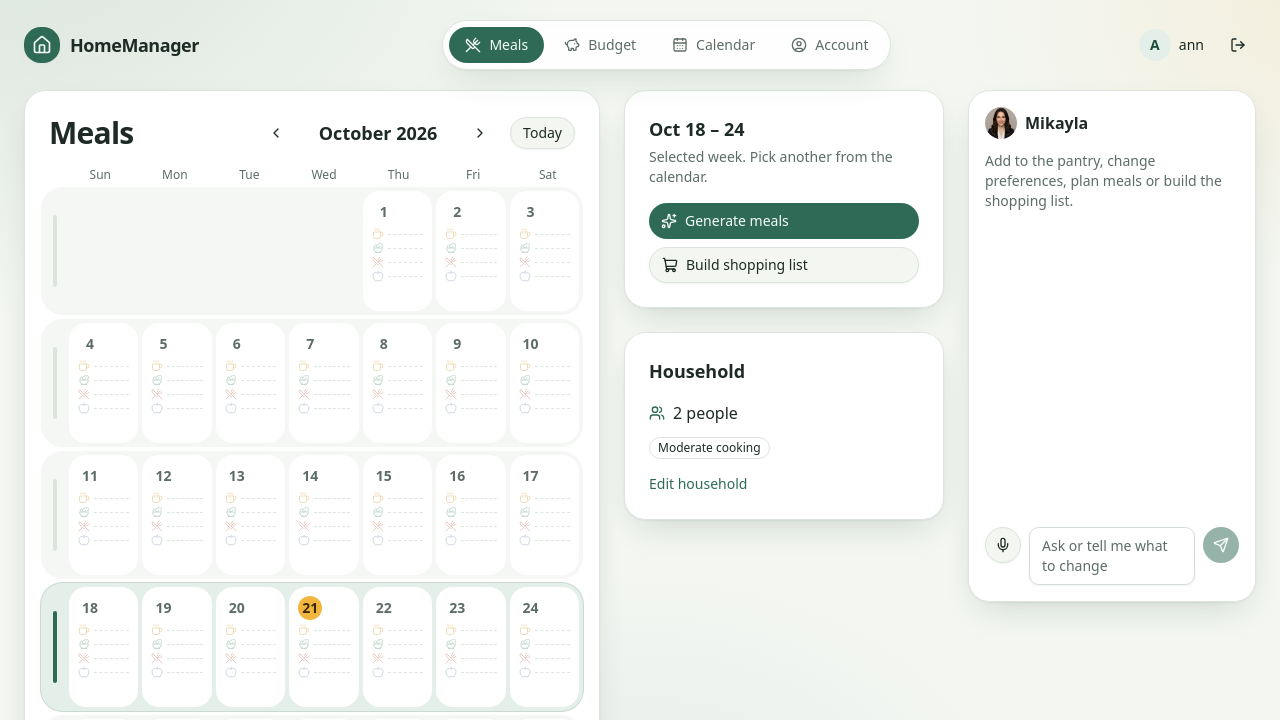
Scenario: App routes and shell (signed in) › shows the signed-in user and logs out to the login page
Check: the link with aria-label "Signed in as ann" is shown, box [1139,29,1204,61]
Click the button named "Log out": (1238, 45) [1220,27,1256,63]
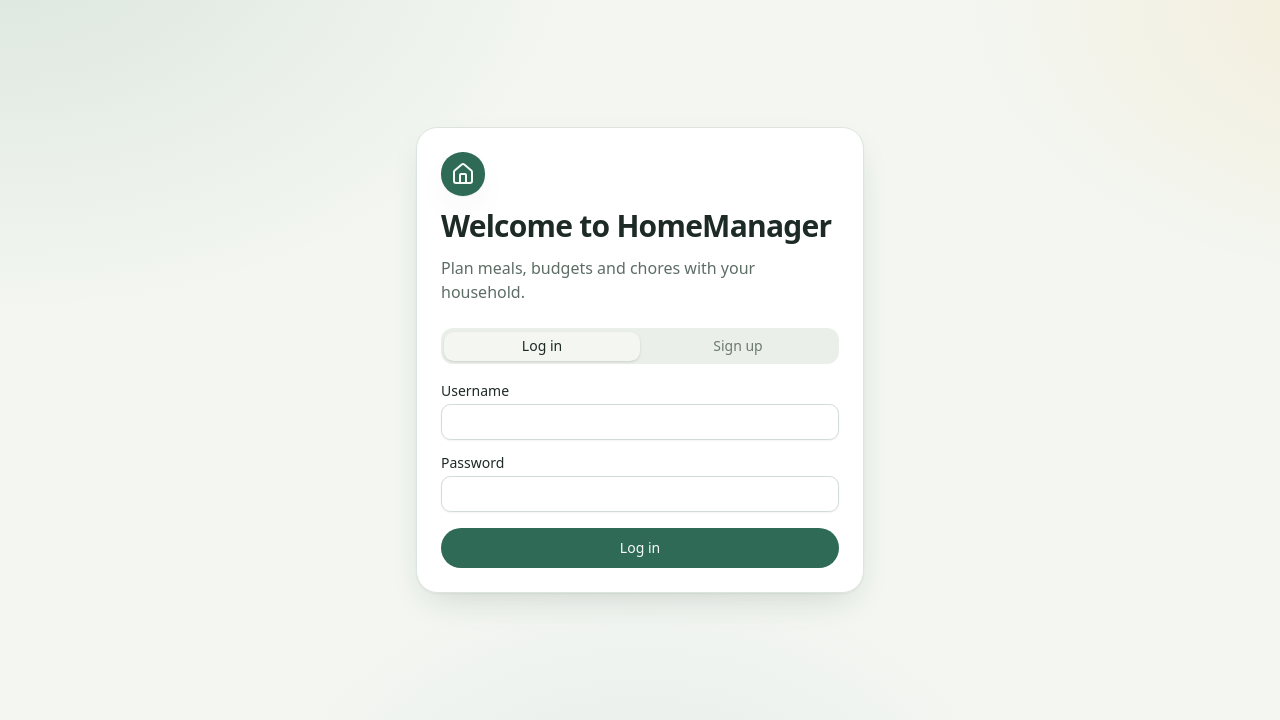
Check: the heading "Welcome to HomeManager" is shown, box [441,208,839,244]
